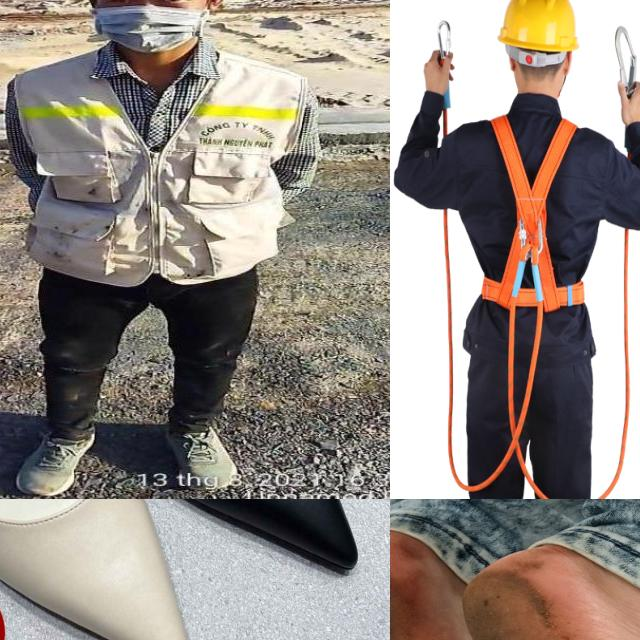Barefoots: (461, 544, 640, 640), (390, 530, 455, 640)
Harness: (476, 95, 590, 387)
No_Ear-Protection: (211, 0, 227, 19)
No_Glasses: (98, 0, 199, 11)
Sandals: (4, 499, 376, 582), (0, 499, 205, 640)
face_mask: (91, 4, 216, 59)
person: (1, 0, 322, 496)
